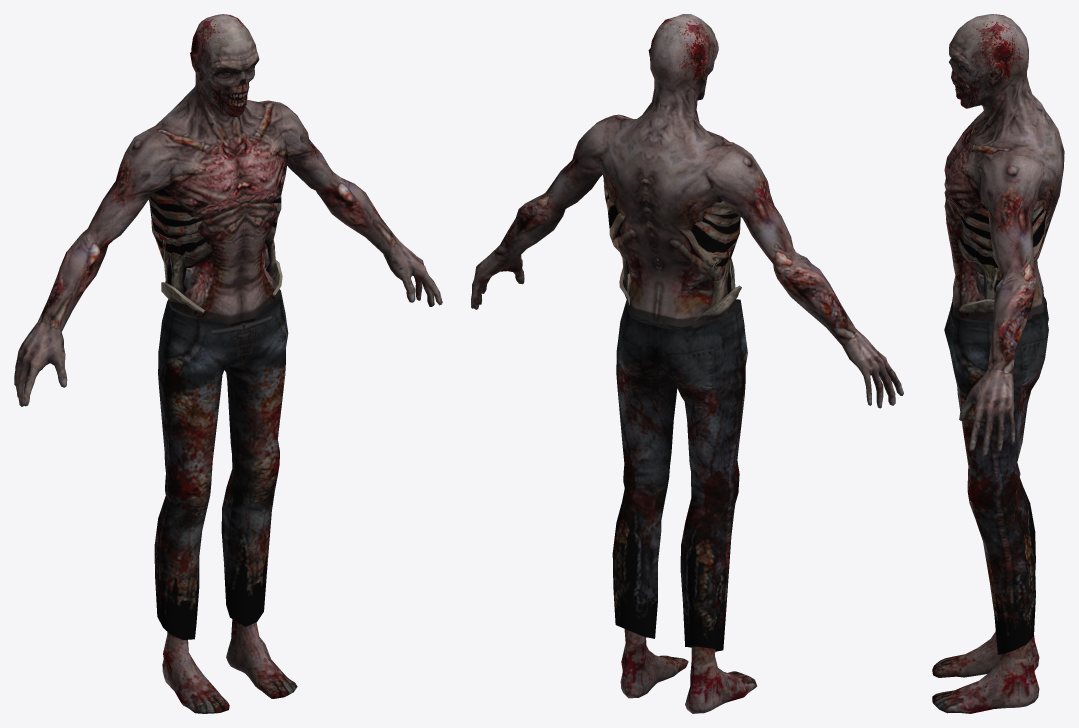
File: zombie.DAE
The picture shows the model from 3 angles, left to right: view 1: azimuth 30°, elevation 25°; view 2: azimuth 150°, elevation 25°; view 3: azimuth 270°, elevation 25°; orthographic projection.
Parts seen in each view (by area): view 1: Object002; view 2: Object002; view 3: Object002.
Boxes of the visible parts, box(x1,y1,x2,y2) form: Object002: box(14, 14, 442, 713); Object002: box(471, 14, 903, 713); Object002: box(932, 14, 1064, 713).
Size of the model in its own units: 2.17 by 0.5885 by 3.3.
